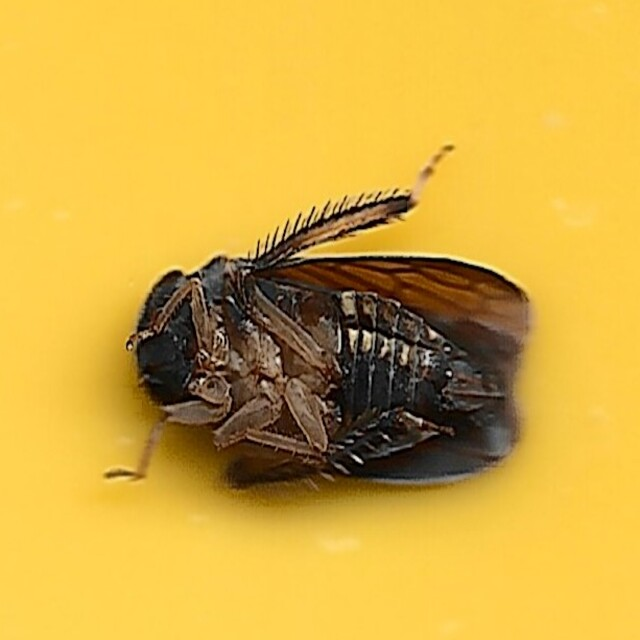Hemiptera: (104, 142, 536, 498)
